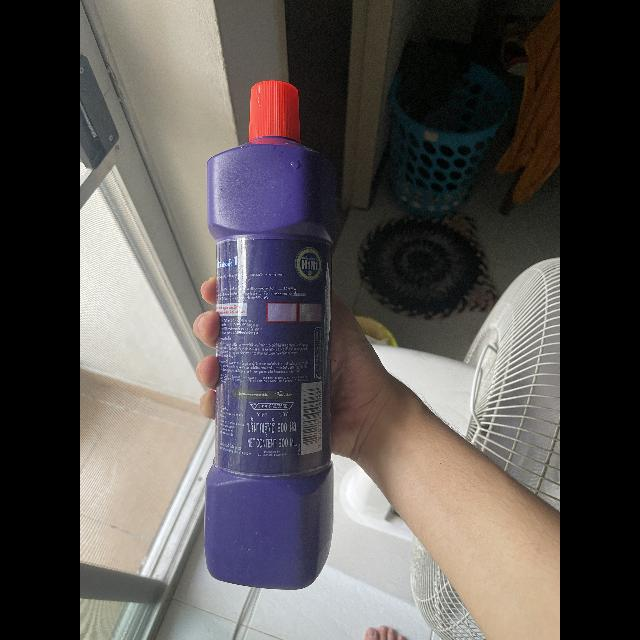chemical_plastic_bottle: (201, 79, 339, 596)
